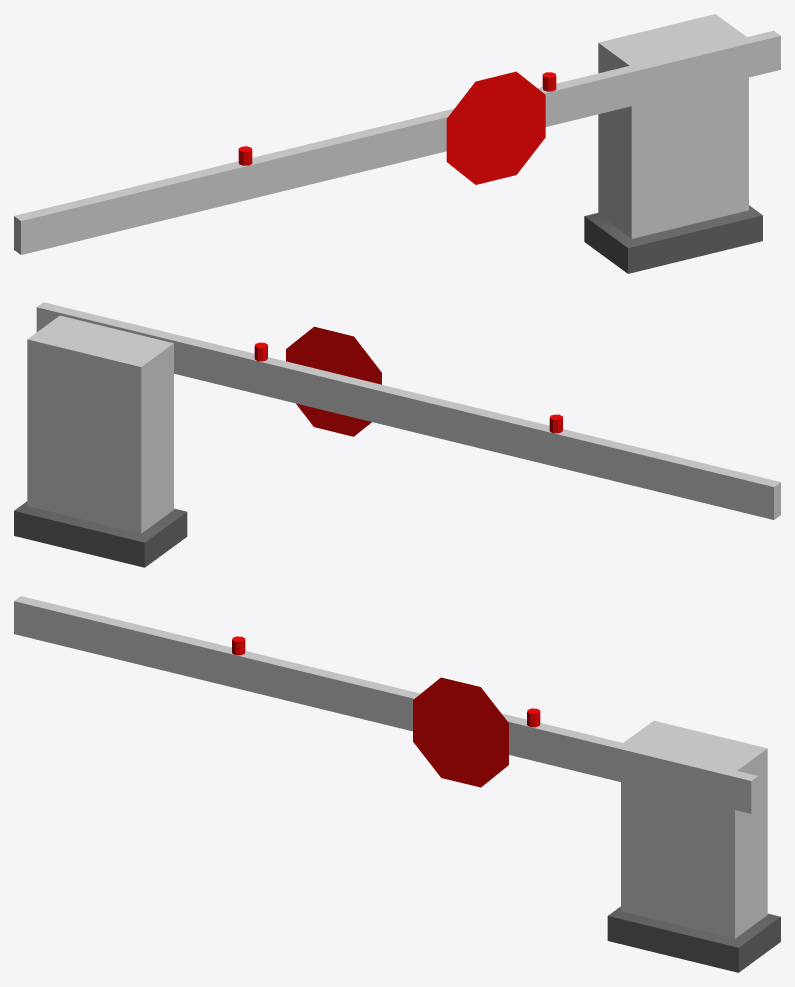
Rendered from BARRIERE.fbx.
The picture shows the model from 3 angles, top to bottom: view 1: azimuth 30°, elevation 25°; view 2: azimuth 150°, elevation 25°; view 3: azimuth 330°, elevation 25°; orthographic projection. The views are drawn at different scales.
Parts seen in each view (by area): view 1: pCube10, pCube11, pCylinder3; view 2: pCube10, pCube11, pCylinder3; view 3: pCube10, pCube11, pCylinder3.
Part boxes in pixels (x1,y1,x2,y2): pCube10: [584, 14, 762, 273]; pCube11: [14, 30, 780, 254]; pCylinder3: [446, 71, 545, 184]; pCube10: [14, 315, 187, 567]; pCube11: [36, 302, 780, 519]; pCylinder3: [286, 326, 381, 436]; pCube10: [607, 720, 780, 972]; pCube11: [14, 596, 758, 813]; pCylinder3: [413, 677, 508, 787].
Bounding box in the file's own units: 422 × 127 × 51.26.
